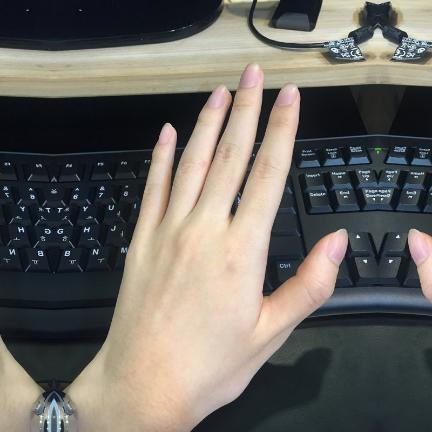Nail: (325, 229, 347, 265), (408, 229, 430, 265), (205, 84, 229, 108), (238, 62, 260, 87), (275, 82, 297, 106), (158, 123, 173, 145)
